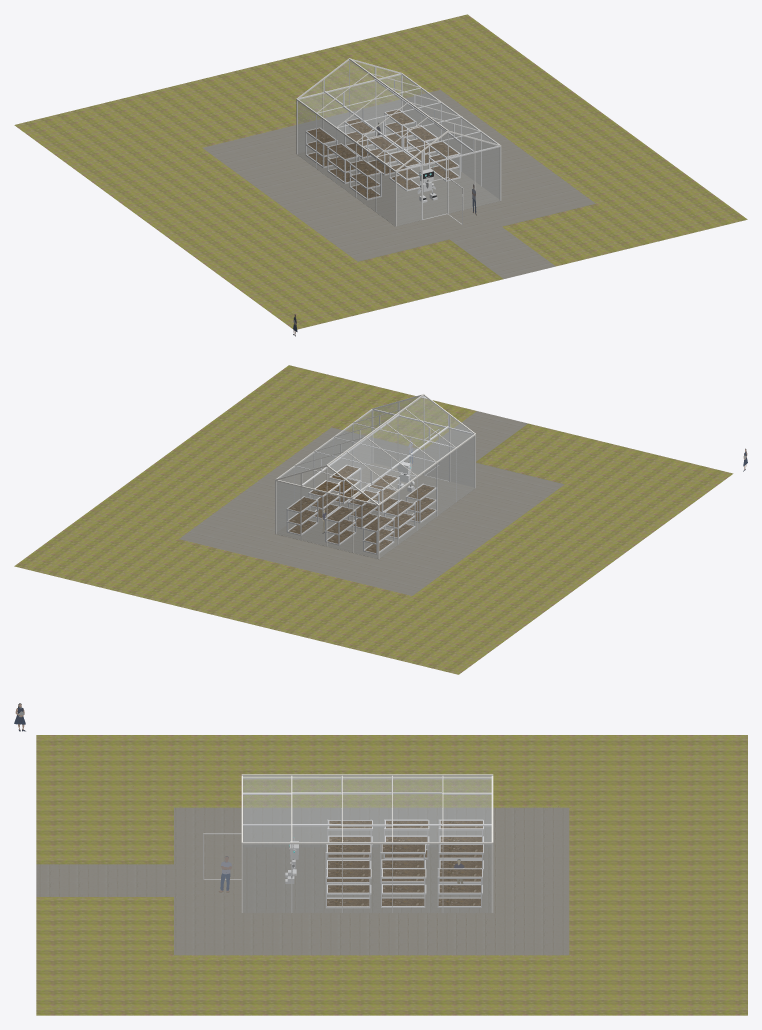
The model's file is greenhouse.glb.
The picture shows the model from 3 angles, top to bottom: view 1: azimuth 30°, elevation 25°; view 2: azimuth 150°, elevation 25°; view 3: azimuth 270°, elevation 25°; orthographic projection. The views are drawn at different scales.
Visible parts, largest first — view 1: Geom3D (×7), Geom3D_; view 2: Geom3D (×7), Geom3D_; view 3: Geom3D (×4), Geom3D_ (×4).
Boxes of the visible parts, bbox=[...] form: Geom3D (×7): bbox=[14, 14, 747, 329]; Geom3D_: bbox=[297, 131, 500, 226]; Geom3D (×7): bbox=[14, 365, 733, 674]; Geom3D_: bbox=[276, 463, 474, 559]; Geom3D (×4): bbox=[36, 735, 747, 1015]; Geom3D_ (×4): bbox=[241, 774, 493, 912].
Size of the model in its own units: 34.73 by 6.04 by 37.89.
49 materials, 6 textured.
